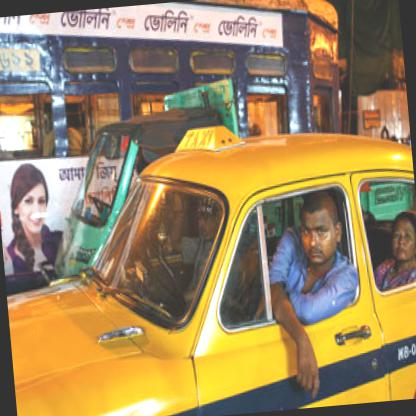car: (0, 107, 415, 415)
